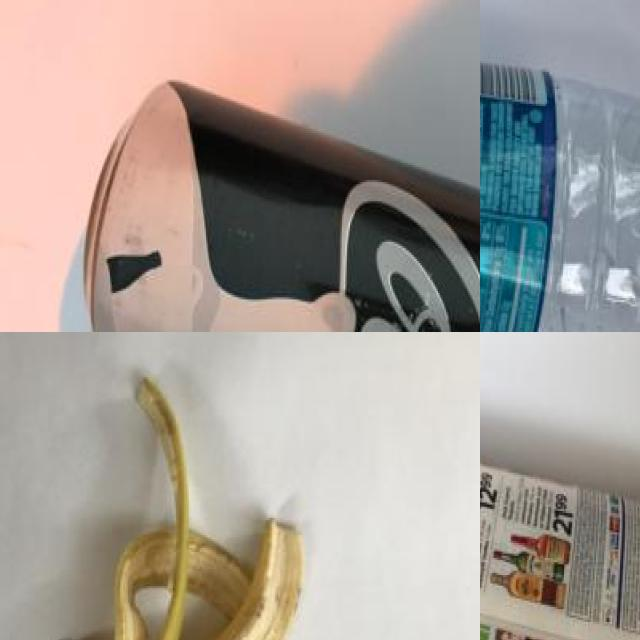compost: (51, 368, 313, 640)
paper: (480, 401, 640, 640)
plastic: (68, 58, 480, 332), (480, 11, 640, 332)
